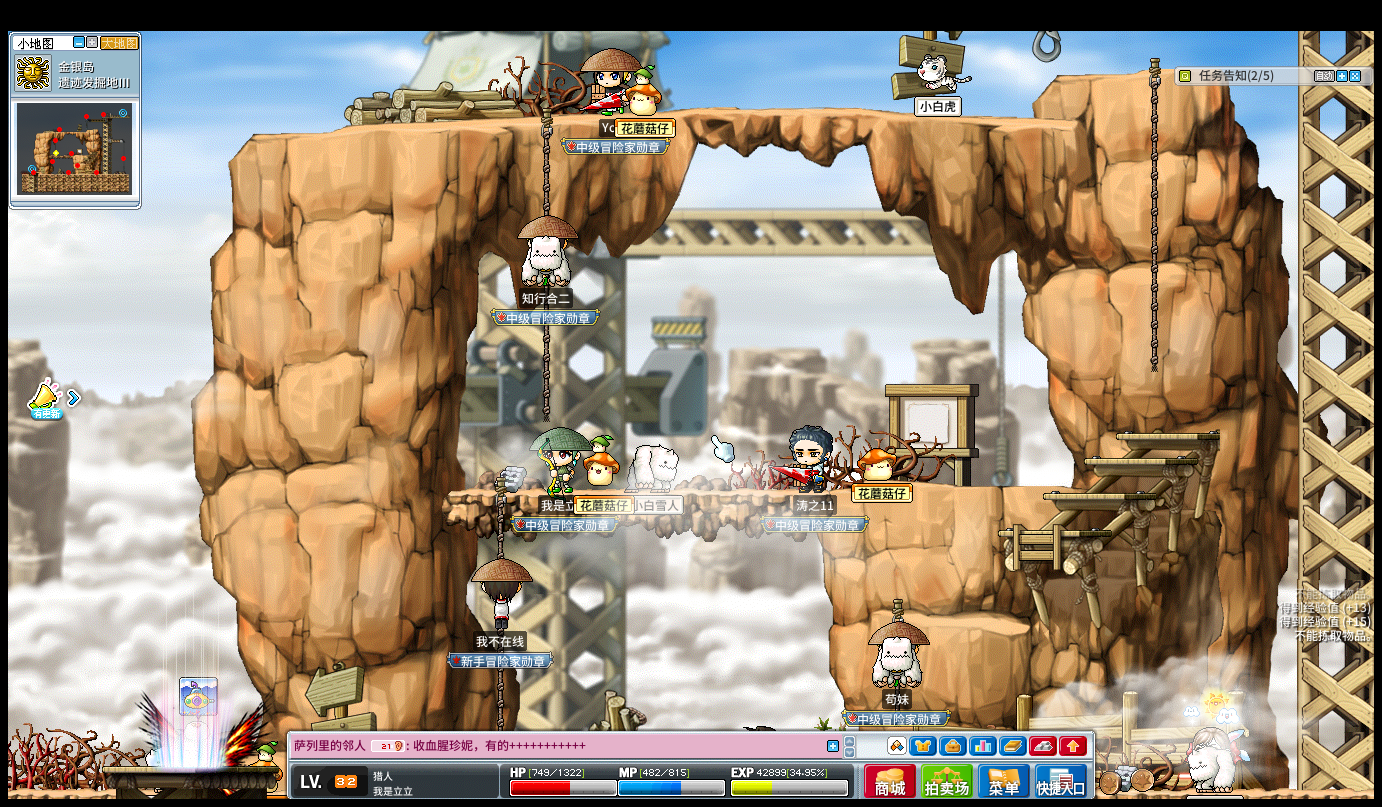floor: (248, 104, 1085, 138), (446, 486, 823, 498), (924, 613, 1029, 634), (1052, 67, 1169, 81), (919, 482, 1077, 492), (1114, 429, 1221, 441), (1077, 456, 1194, 464), (1041, 492, 1154, 500), (995, 528, 1108, 536)
monster: (1185, 683, 1249, 787)
rope: (1146, 56, 1160, 377), (541, 106, 551, 215), (541, 321, 551, 422), (492, 482, 505, 559), (493, 668, 503, 723)
